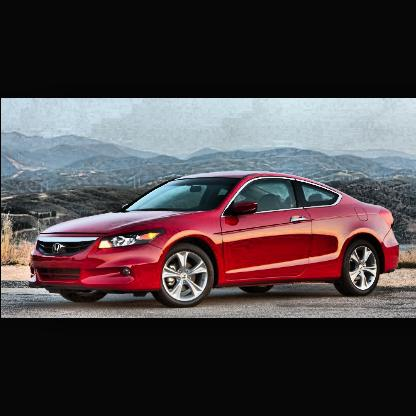Honda Accord Coupe 2012: (27, 173, 399, 308)
